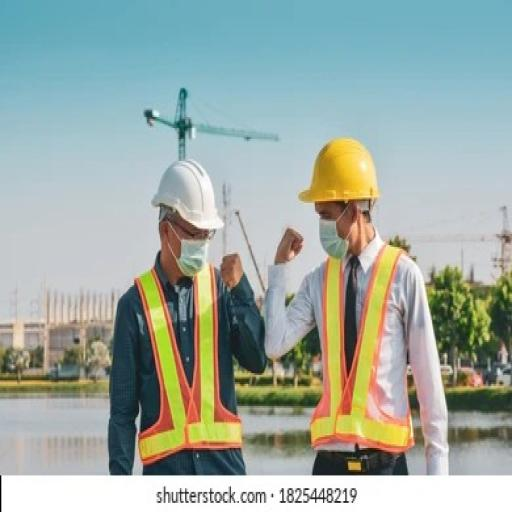mask: (172, 238, 215, 284), (314, 220, 350, 268)
